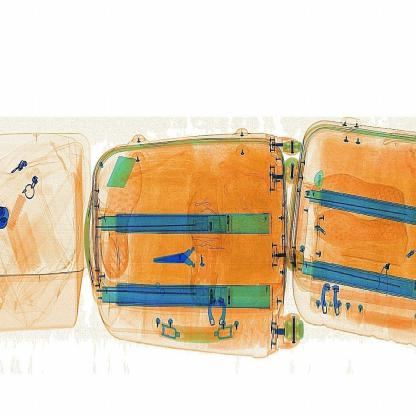gun: (152, 228, 221, 288)
